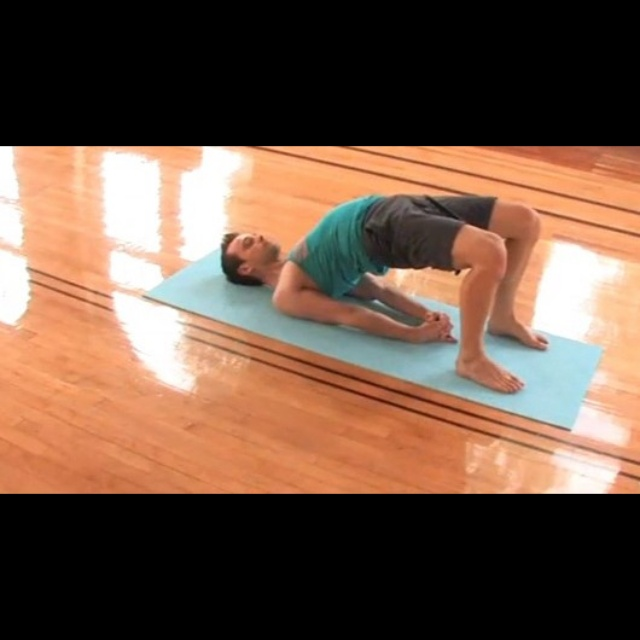Bridge_Pose: (212, 184, 556, 408)
